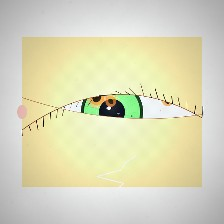foreign_body_visible: (148, 84, 188, 116)
